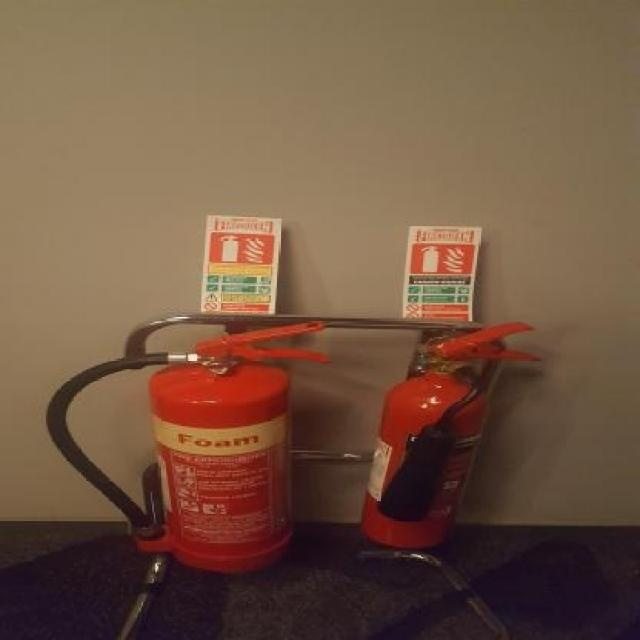fire extinguisher: (43, 323, 331, 574), (358, 321, 547, 550)
